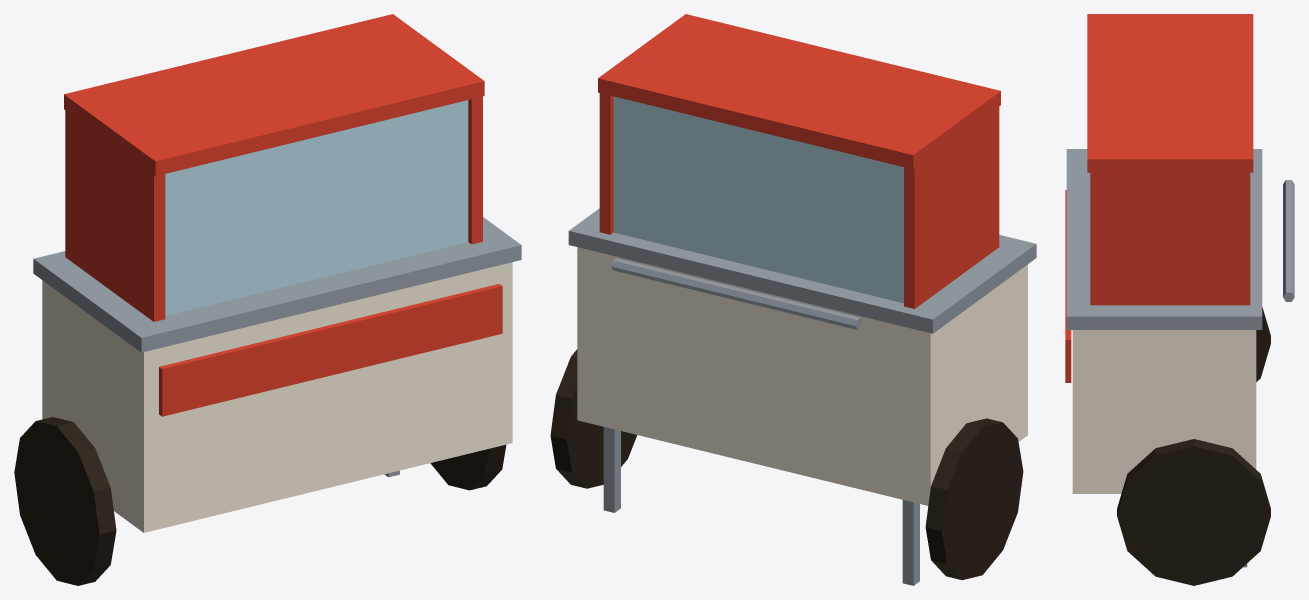
File: xe-banh-mi.glb
3 renders of one model, left to right at view 1: azimuth 30°, elevation 25°; view 2: azimuth 150°, elevation 25°; view 3: azimuth 270°, elevation 25°, orthographic. The views are drawn at different scales.
Visible parts, largest first — view 1: xe-banh-mi; view 2: xe-banh-mi; view 3: xe-banh-mi.
Boxes of the visible parts, x1,y1,x2,y2 form: xe-banh-mi: [14, 14, 521, 585]; xe-banh-mi: [550, 14, 1036, 585]; xe-banh-mi: [1065, 14, 1294, 585].
Size of the model in its own units: 1.44 by 1.52 by 0.775.
